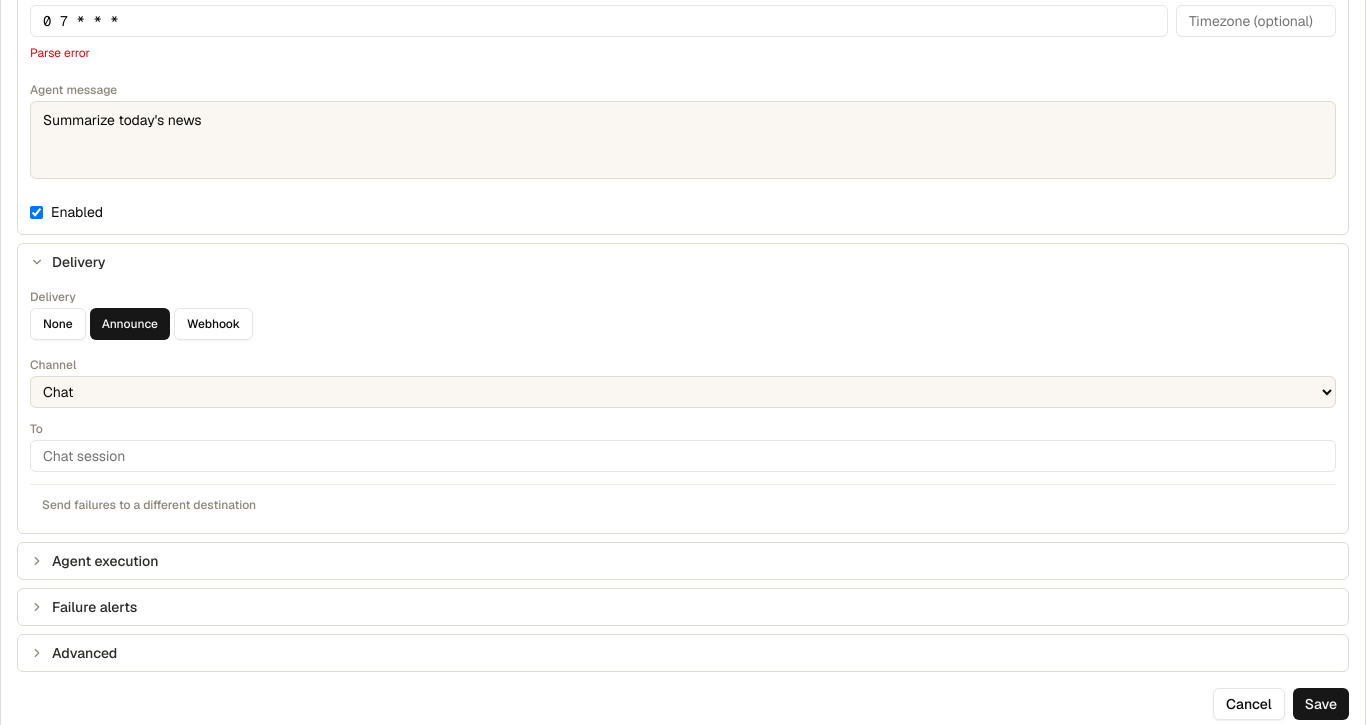
JobEditDialog › Failure alerts: toggling enabled reveals after/cooldown inputs
The image size is (1366, 725).
(page scrolled)
Click the button "Failure alerts" at coordinates (95, 607), box [18,589,1348,625]
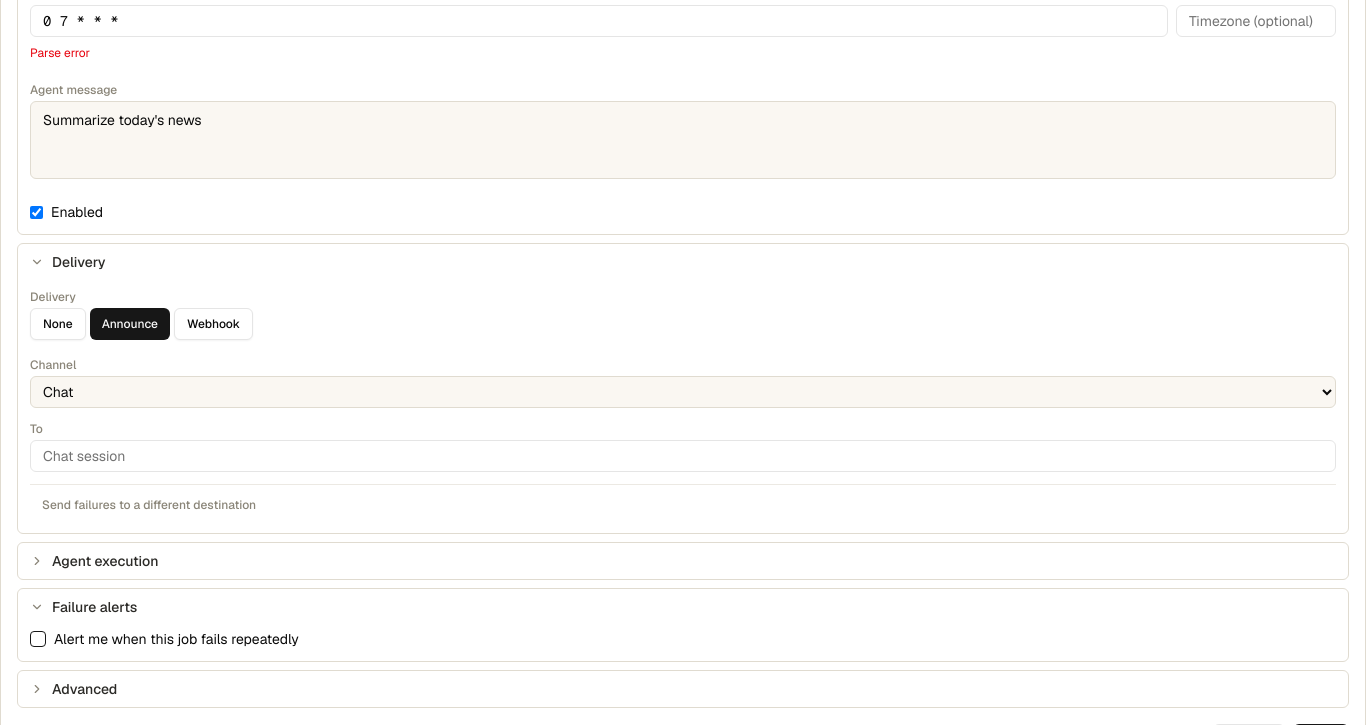
Expected: the checkbox named "Alert me when this job fails" is not checked
Click the checkbox named "Alert me when this job fails" at coordinates (38, 639), box [30,631,46,647]
(page scrolled)
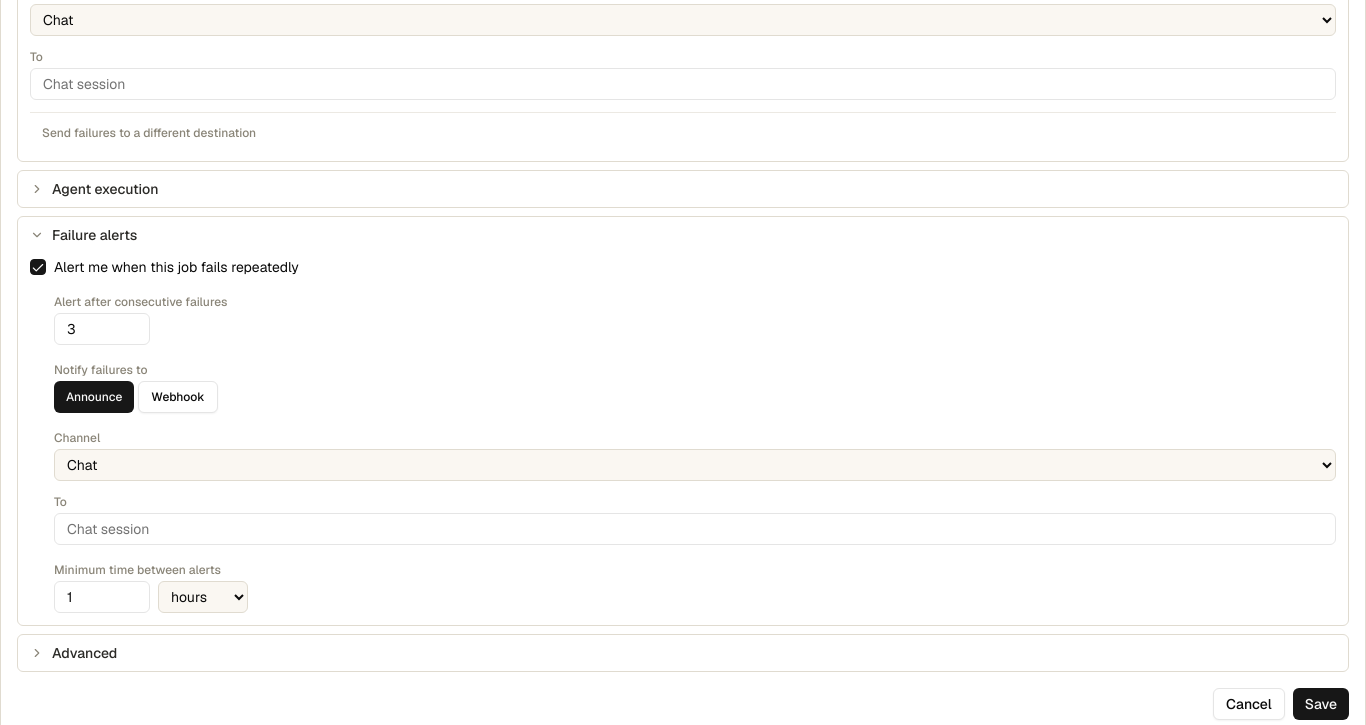
Expected: the number field named "Failure alert after" is shown, [54,313,150,345]
Expected: the number field named "Failure alert cooldown value" is shown, [54,581,150,613]
Expected: the dropdown named "Failure alert cooldown unit" is shown, [158,581,248,613]
